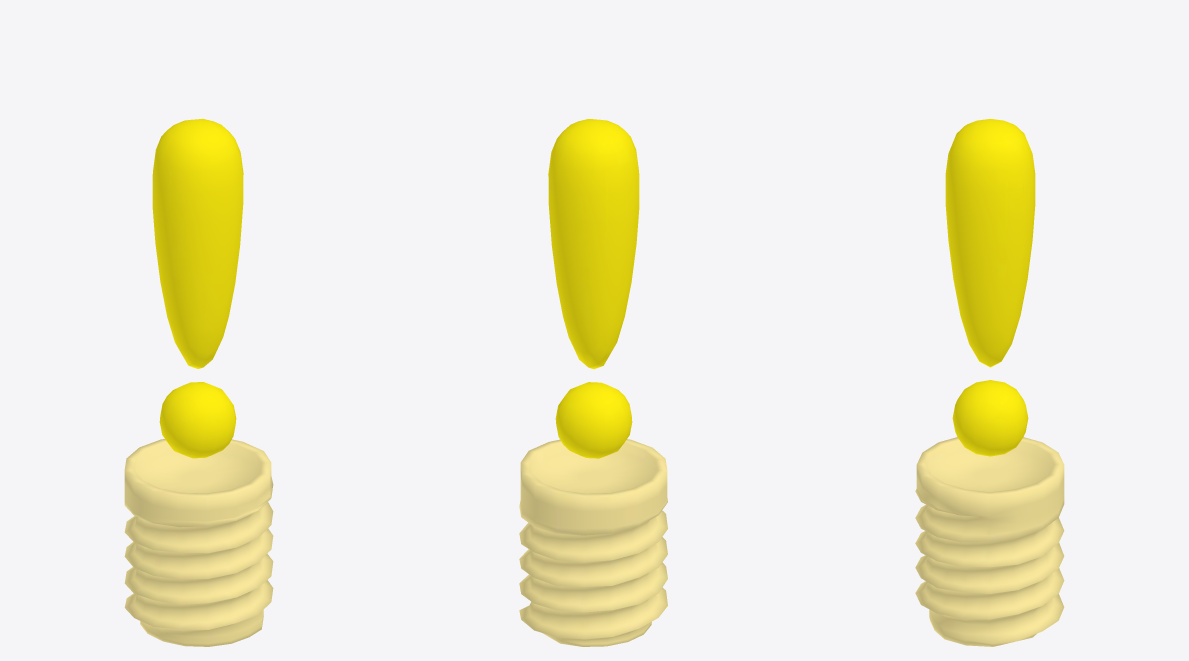
The picture shows the model from 3 angles, left to right: view 1: azimuth 30°, elevation 25°; view 2: azimuth 150°, elevation 25°; view 3: azimuth 270°, elevation 25°; orthographic projection.
Parts seen in each view (by area): view 1: Base__0; view 2: Base__0; view 3: Base__0.
Boxes of the visible parts, x1,y1,x2,y2 form: Base__0: [124, 119, 273, 646]; Base__0: [519, 119, 667, 646]; Base__0: [915, 119, 1064, 646].
Size of the model in its own units: 52.7 by 94.09 by 52.7.
1 material, 1 textured.
